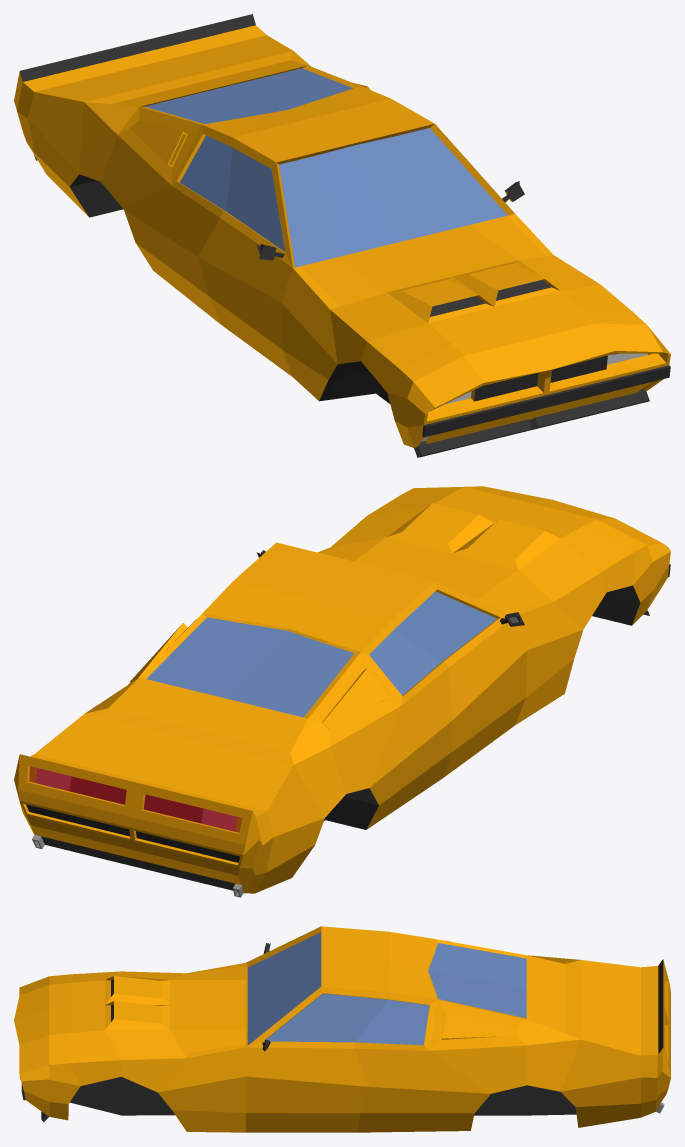
The model's file is auto.fbx.
The picture shows the model from 3 angles, top to bottom: view 1: azimuth 30°, elevation 25°; view 2: azimuth 150°, elevation 25°; view 3: azimuth 270°, elevation 25°; orthographic projection. The views are drawn at different scales.
Parts seen in each view (by area): view 1: Cube; view 2: Cube; view 3: Cube.
Boxes of the visible parts, <box> form: Cube: <box>14,14,670,457</box>; Cube: <box>14,486,670,897</box>; Cube: <box>14,926,670,1132</box>.
Size of the model in its own units: 176 by 109 by 482.
